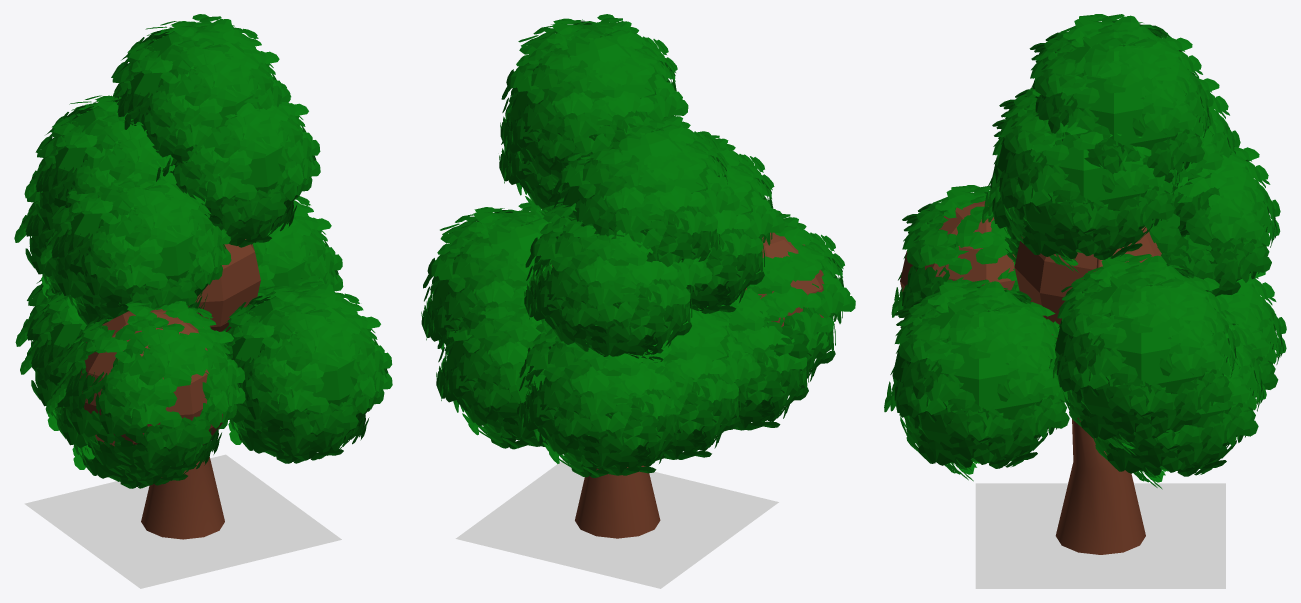
The model's file is tree2.fbx.
The picture shows the model from 3 angles, left to right: view 1: azimuth 30°, elevation 25°; view 2: azimuth 150°, elevation 25°; view 3: azimuth 270°, elevation 25°; orthographic projection. The views are drawn at different scales.
Parts seen in each view (by area): view 1: 平面.849, 平面.001; view 2: 平面.849, 平面.001; view 3: 平面.849, 平面.001.
Boxes of the visible parts, x1,y1,x2,y2 form: 平面.849: [14, 14, 392, 539]; 平面.001: [24, 454, 341, 588]; 平面.849: [421, 14, 855, 538]; 平面.001: [455, 460, 778, 588]; 平面.849: [884, 14, 1286, 554]; 平面.001: [975, 483, 1225, 588].
Bounding box in the file's own units: 329 × 322 × 461.
